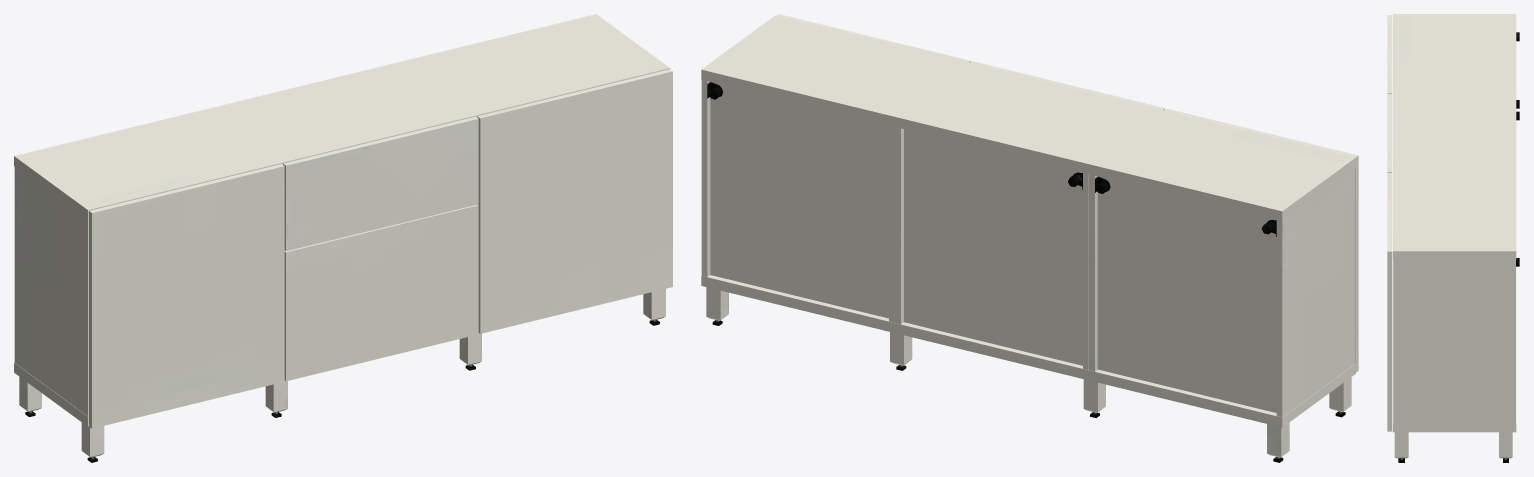
The model's file is 27 - BESTÅ Storage combination with drawers - whiteLappvikenStubbarp white 180x42x74 cm.glb.
The picture shows the model from 3 angles, left to right: view 1: azimuth 30°, elevation 25°; view 2: azimuth 150°, elevation 25°; view 3: azimuth 270°, elevation 25°; orthographic projection. The views are drawn at different scales.
Visible parts, largest first — view 1: 79195636_Storage_combination_with_drawers:5, 79195636_Storage_combination_with_drawers:1, 79195636_Storage_combination_with_drawers:16, 79195636_Storage_combination_with_drawers:6, 79195636_Storage_combination_with_drawers:15; view 2: 79195636_Storage_combination_with_drawers:1, 79195636_Storage_combination_with_drawers:16, 79195636_Storage_combination_with_drawers:6, 79195636_Storage_combination_with_drawers:5; view 3: 79195636_Storage_combination_with_drawers:1, 79195636_Storage_combination_with_drawers:5, 79195636_Storage_combination_with_drawers:6, 79195636_Storage_combination_with_drawers:16, 79195636_Storage_combination_with_drawers:15.
Boxes of the visible parts, box(x1,y1,x2,y2) form: 79195636_Storage_combination_with_drawers:5: box(89, 71, 672, 428); 79195636_Storage_combination_with_drawers:1: box(14, 14, 670, 426); 79195636_Storage_combination_with_drawers:16: box(19, 288, 665, 457); 79195636_Storage_combination_with_drawers:6: box(89, 69, 672, 212); 79195636_Storage_combination_with_drawers:15: box(283, 116, 478, 165); 79195636_Storage_combination_with_drawers:1: box(701, 15, 1355, 427); 79195636_Storage_combination_with_drawers:16: box(706, 287, 1351, 457); 79195636_Storage_combination_with_drawers:6: box(776, 14, 1358, 157); 79195636_Storage_combination_with_drawers:5: box(969, 61, 1358, 372); 79195636_Storage_combination_with_drawers:1: box(1393, 14, 1516, 432); 79195636_Storage_combination_with_drawers:5: box(1387, 93, 1392, 431); 79195636_Storage_combination_with_drawers:6: box(1387, 15, 1392, 251); 79195636_Storage_combination_with_drawers:16: box(1394, 432, 1512, 458); 79195636_Storage_combination_with_drawers:15: box(1387, 94, 1392, 172).
Size of the model in its own units: 1.8 by 0.7592 by 0.4251.
Materials: 1 (1 with a texture image).
